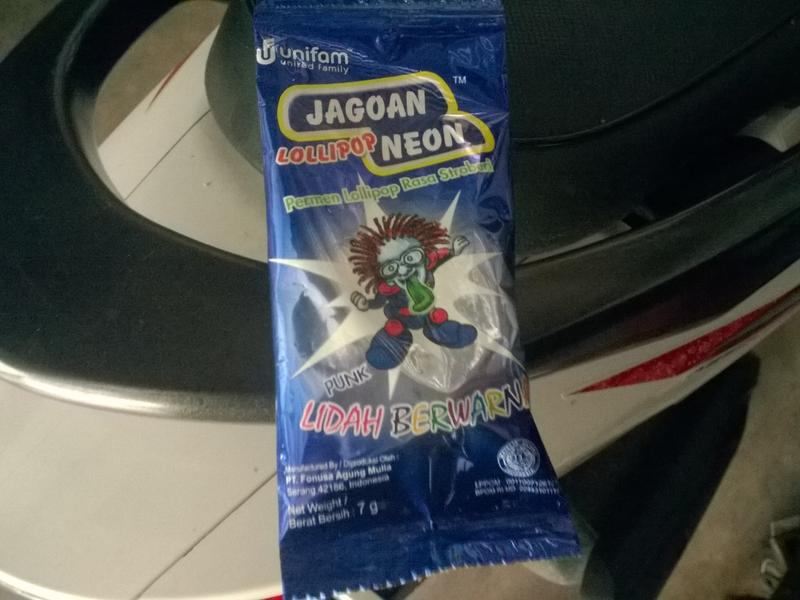jagoan neon: (252, 1, 580, 595)
